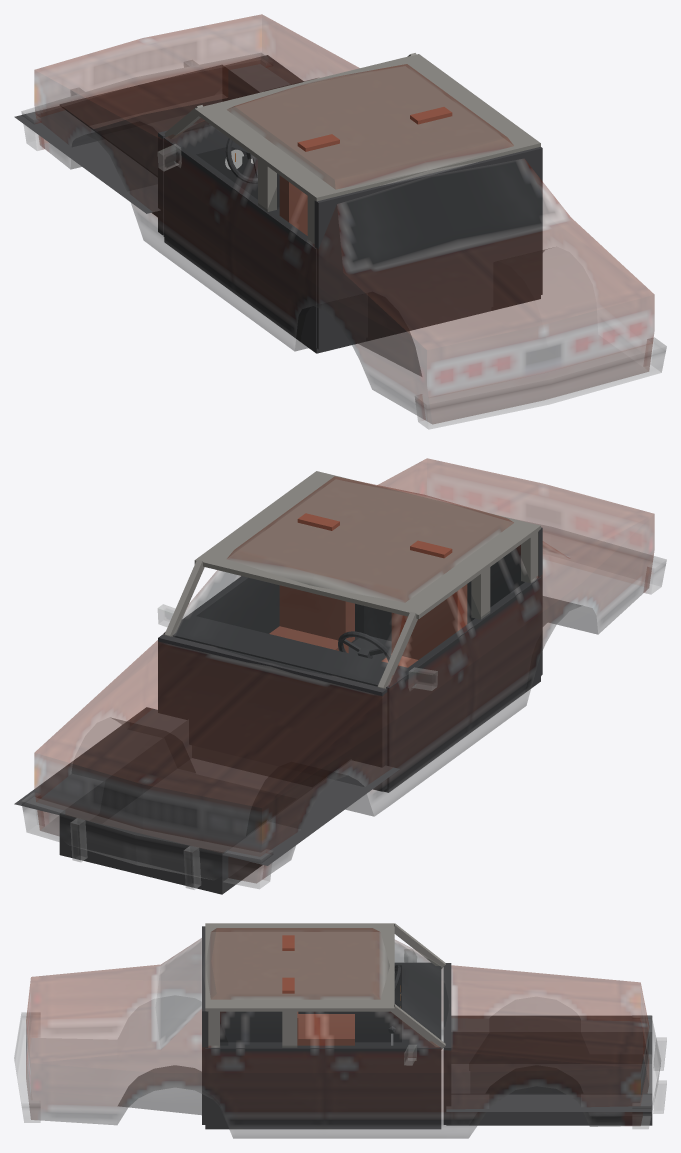
Rendered from cruiser.glb.
The picture shows the model from 3 angles, top to bottom: view 1: azimuth 30°, elevation 25°; view 2: azimuth 150°, elevation 25°; view 3: azimuth 270°, elevation 25°; orthographic projection. The views are drawn at different scales.
Parts seen in each view (by area): view 1: body, interior, hood, bay; view 2: body, interior, bay, hood, steer; view 3: body, interior, bay, hood.
Part boxes in pixels (x1,y1,x2,y2): body: (21,15,666,429); interior: (158,53,542,353); hood: (22,14,358,138); bay: (14,55,303,217); body: (21,458,666,889); interior: (158,471,542,792); bay: (14,707,399,894); hood: (22,640,387,859); steer: (338,631,391,661); body: (14,928,666,1138); interior: (202,923,451,1129); bay: (446,1015,652,1125); hood: (445,965,666,1105).
Bounding box in the file's own units: 2 × 1.2 × 5.3.
Materials: 8 (1 with a texture image).
